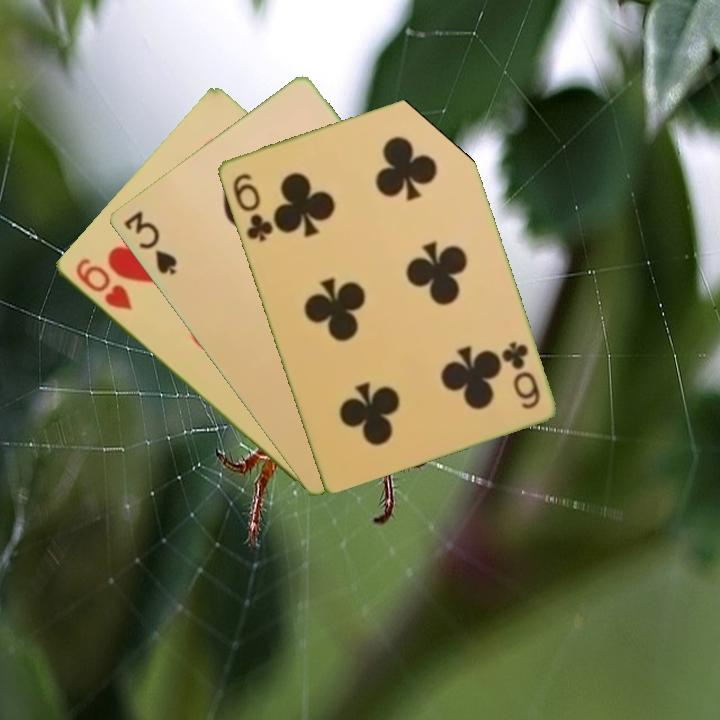3s: (120, 207, 180, 279)
6c: (229, 169, 276, 244), (498, 338, 543, 412)
6h: (71, 254, 135, 314)
